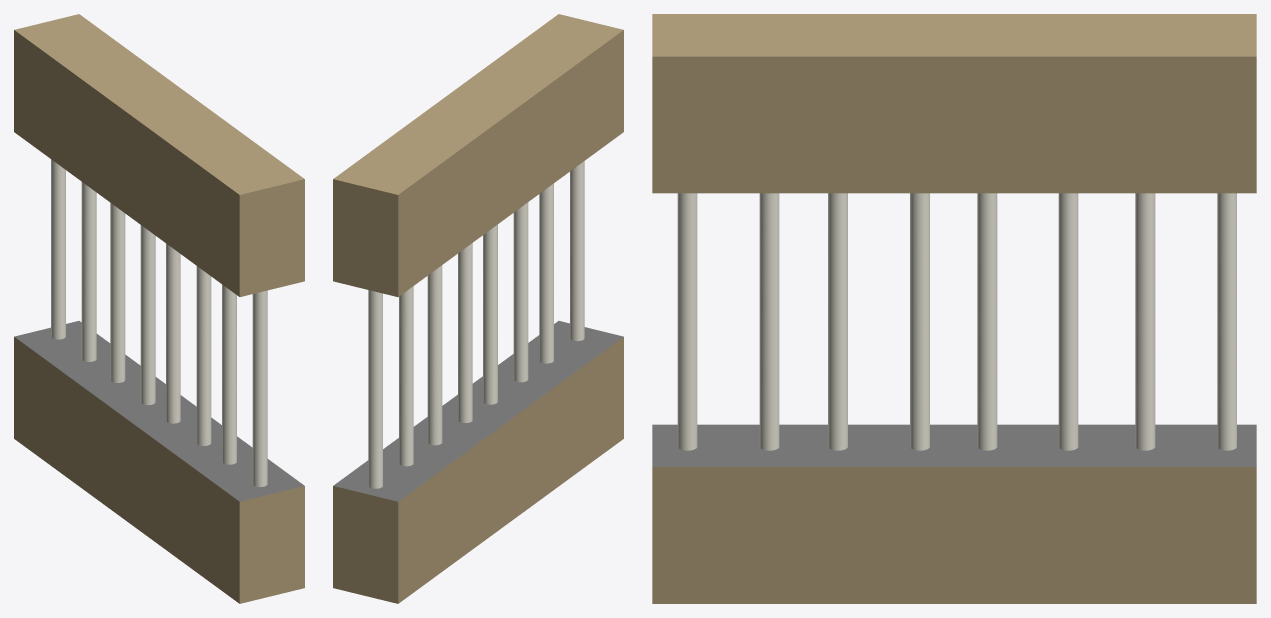
The model's file is WideWindow.fbx.
The picture shows the model from 3 angles, left to right: view 1: azimuth 30°, elevation 25°; view 2: azimuth 150°, elevation 25°; view 3: azimuth 270°, elevation 25°; orthographic projection. The views are drawn at different scales.
Parts seen in each view (by area): view 1: Box001; view 2: Box001; view 3: Box001.
Boxes of the visible parts, x1,y1,x2,y2 form: Box001: [14, 14, 304, 603]; Box001: [333, 14, 623, 603]; Box001: [652, 14, 1256, 603].
Size of the model in its own units: 50 by 300 by 300.
